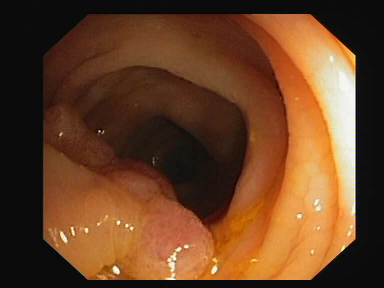polyp: (91, 144, 227, 279)
